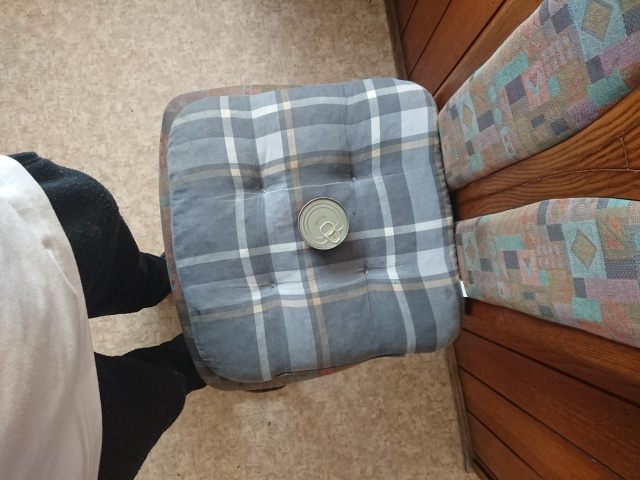Gavrilovic Pork Liver Pate 100g: (295, 195, 352, 253)
